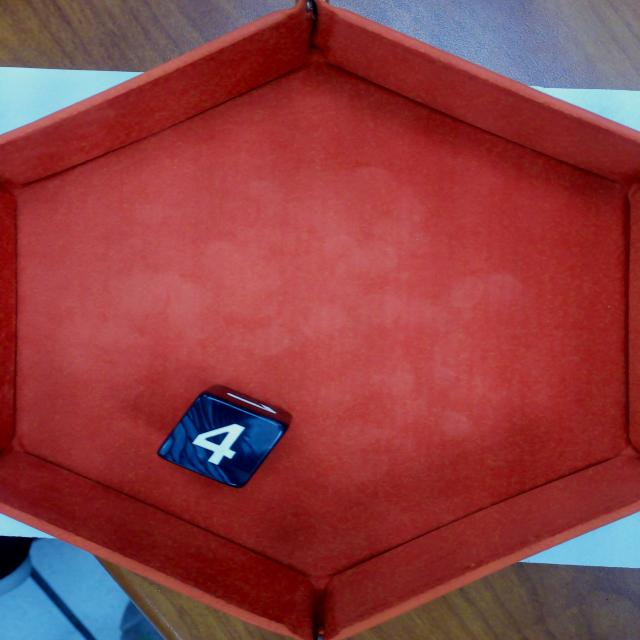dice: (162, 396, 284, 488)
